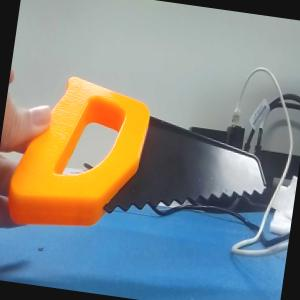serrote: (2, 68, 278, 258)
